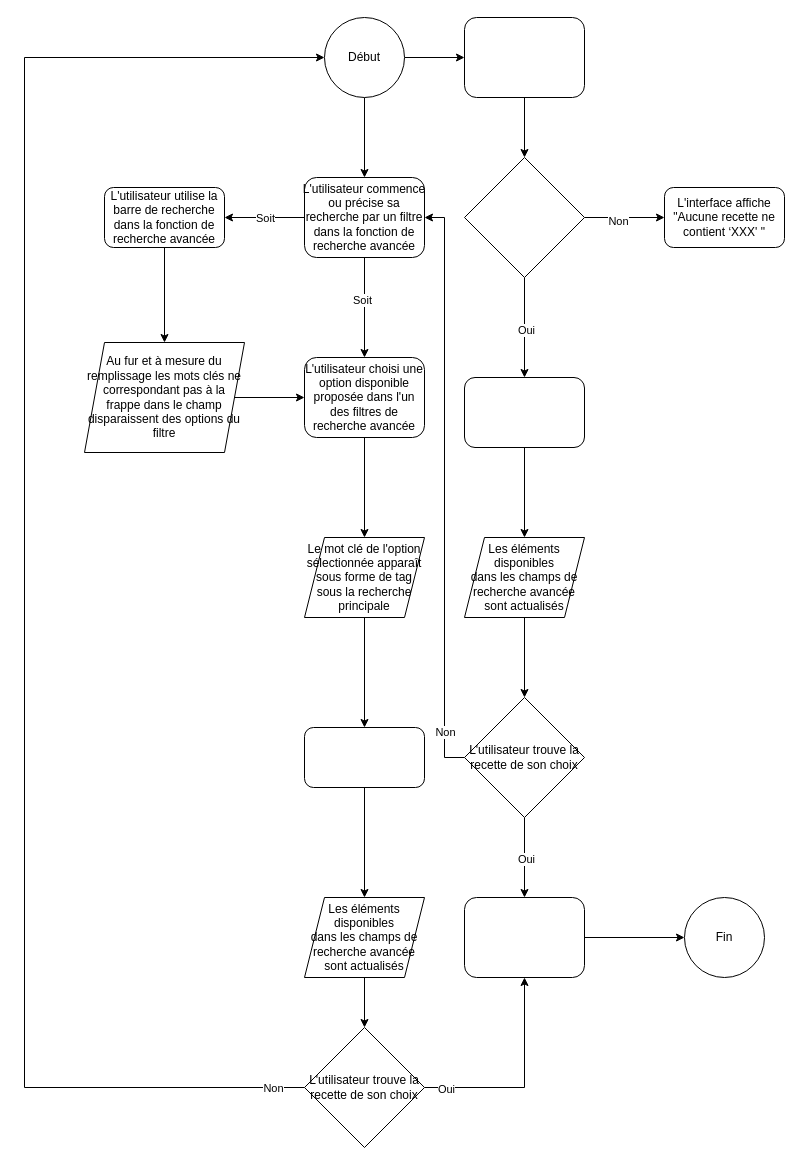
This 802x1165 diagram has some shape labels left out. The shapes that lost their labels are listed below. From the top down, each one's centre as x and y in pixels, then its label:
At (524,57): "L’utilisateur entre au moins 3 caractères dans la barre de recherche principale".
At (524,217): "Des recettes contiennent le(s) mot(s) clef(s) entré(s) par l'utilisateur".
At (524,412): "L’interface est actualisée avec les résultats de recherche".
At (364,757): "L’interface est actualisée avec les résultats du filtre".
At (524,937): "L’utilisateur sélectionne une recette".
